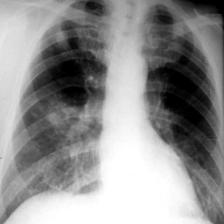tuberculosis: (6, 0, 224, 211)
